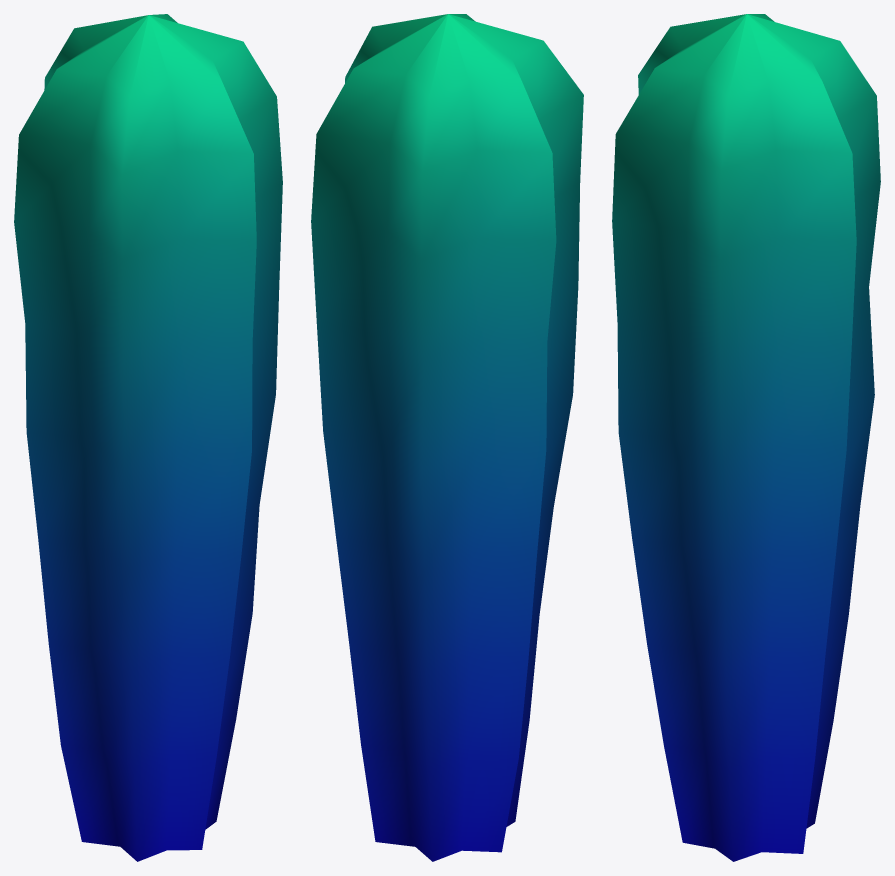
Rendered from Senita1.fbx.
3 renders of one model, left to right at view 1: azimuth 30°, elevation 25°; view 2: azimuth 150°, elevation 25°; view 3: azimuth 270°, elevation 25°, orthographic.
Parts seen in each view (by area): view 1: Senita1_LOD0; view 2: Senita1_LOD0; view 3: Senita1_LOD0.
Part boxes in pixels (x1=…): Senita1_LOD0: x1=14, y1=14, x2=282, y2=861; Senita1_LOD0: x1=311, y1=14, x2=583, y2=861; Senita1_LOD0: x1=612, y1=14, x2=880, y2=861.
Size of what is drawn, in the model's own units: 37.16 by 120 by 35.64.
